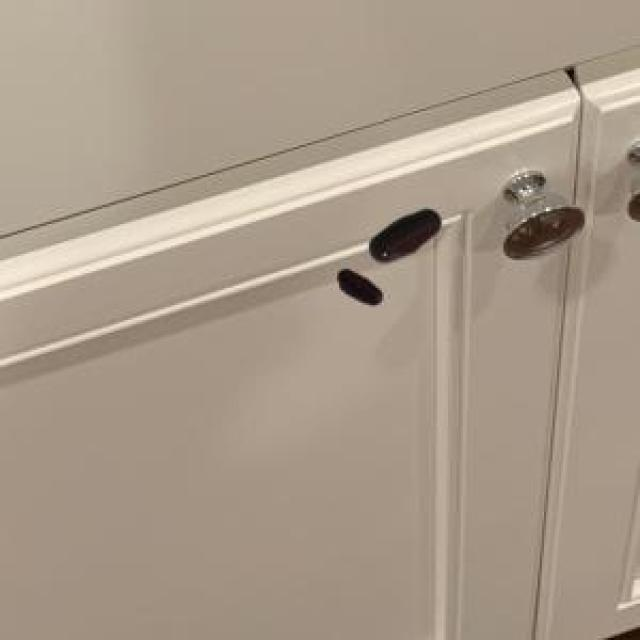DayZinc: (322, 202, 445, 321)
